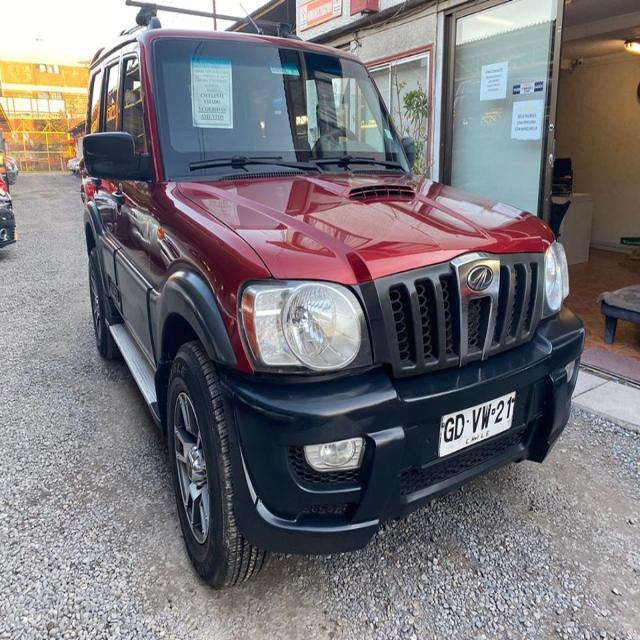patente: (437, 389, 516, 458)
